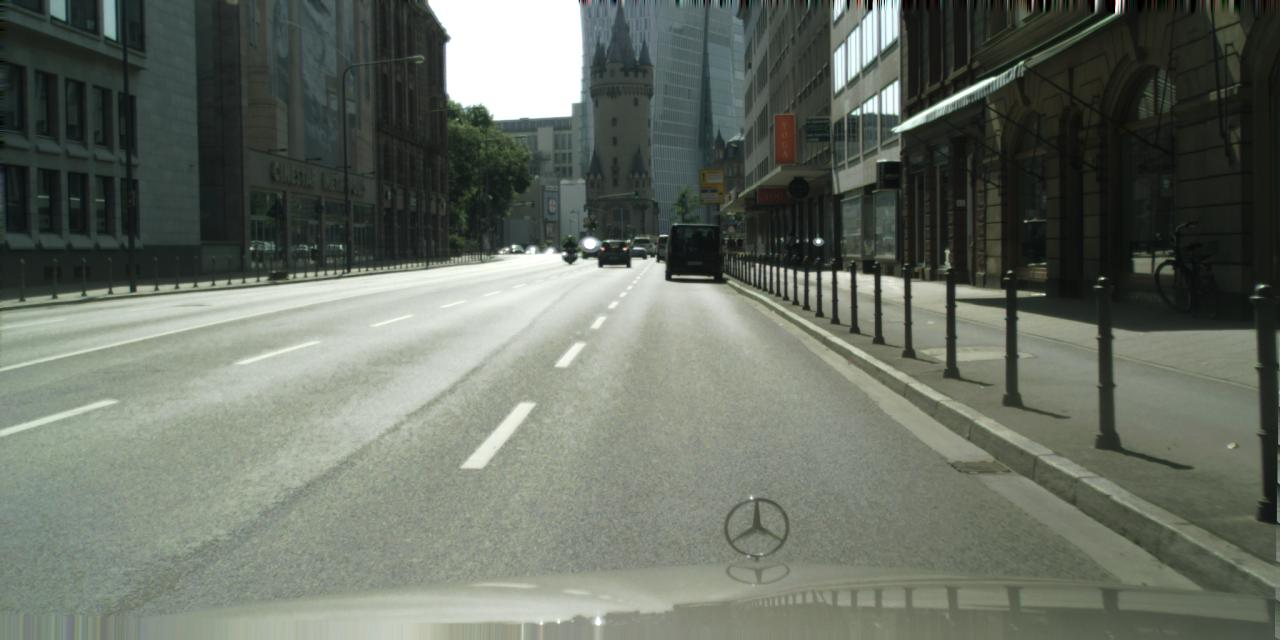ped: (783, 230, 797, 265), (726, 234, 736, 260), (735, 237, 744, 258), (566, 234, 574, 257)
